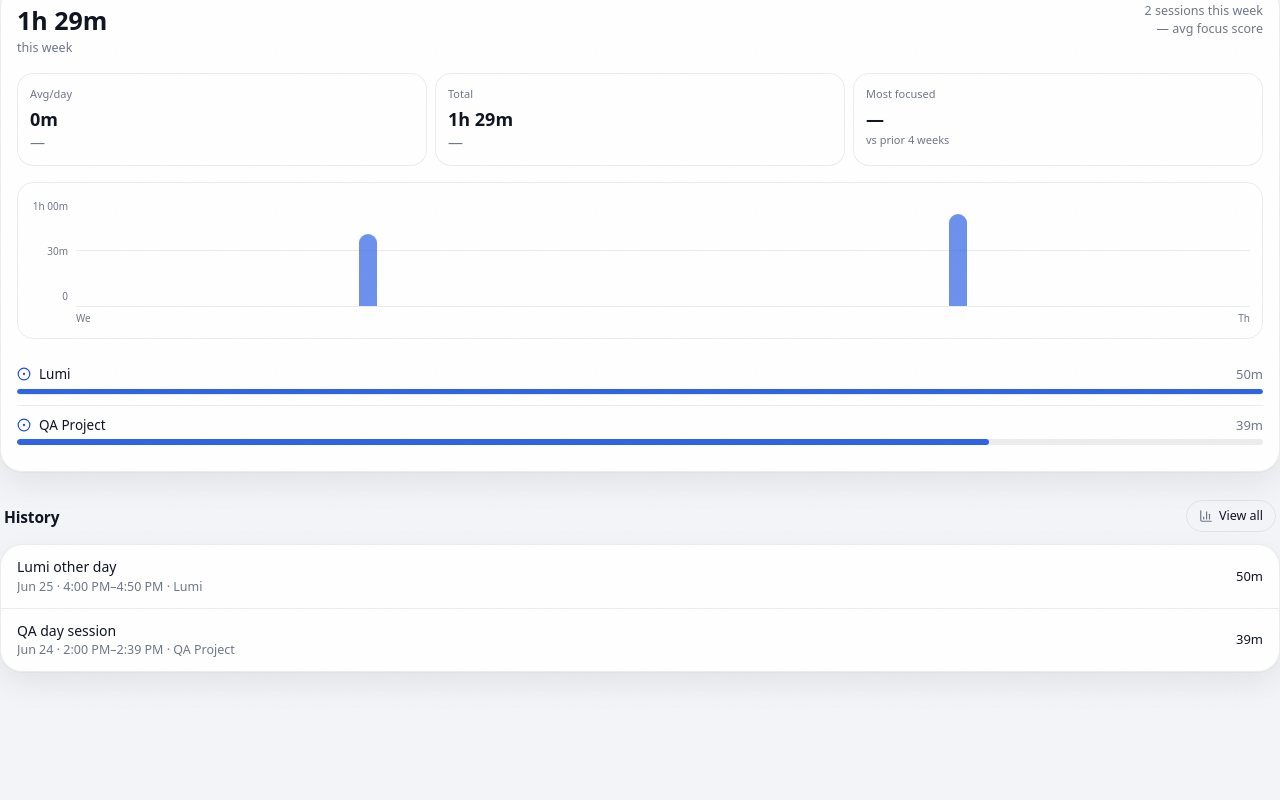
Scenario: FocusPage › filters full history projects and rows by selected day and clears the day on repeat click
The width and height of the screenshot is (1280, 800).
(page scrolled)
What coordinates should you click on to do the following:
click the button "View all"
I would click on:
 (1231, 516)
Its box is [1186,500,1276,532].
(page scrolled)
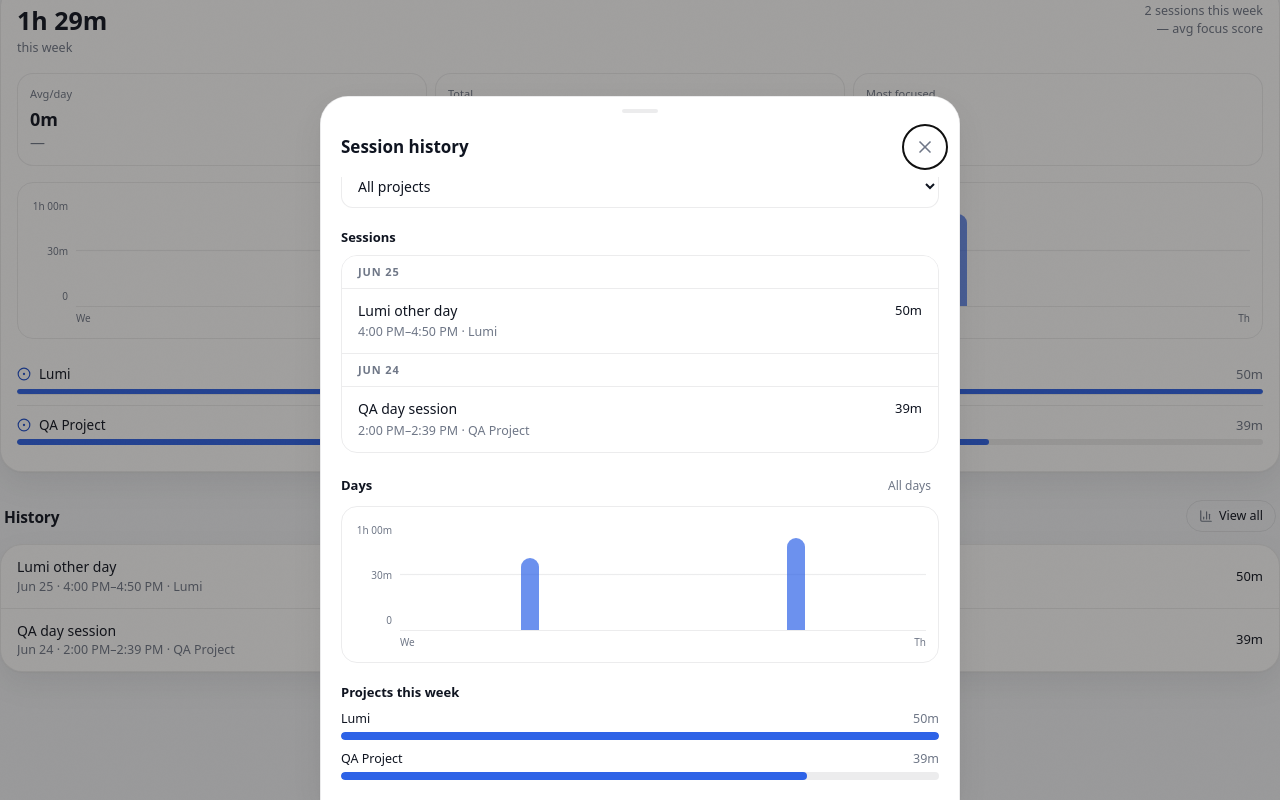
Check: the dialog "Session history" is shown, box [320,96,960,799]
What coordinates should you click on to do the following:
click the button named "2026-06-24: 39m"
I would click on:
 (530, 575)
Its box is [400,519,660,630].
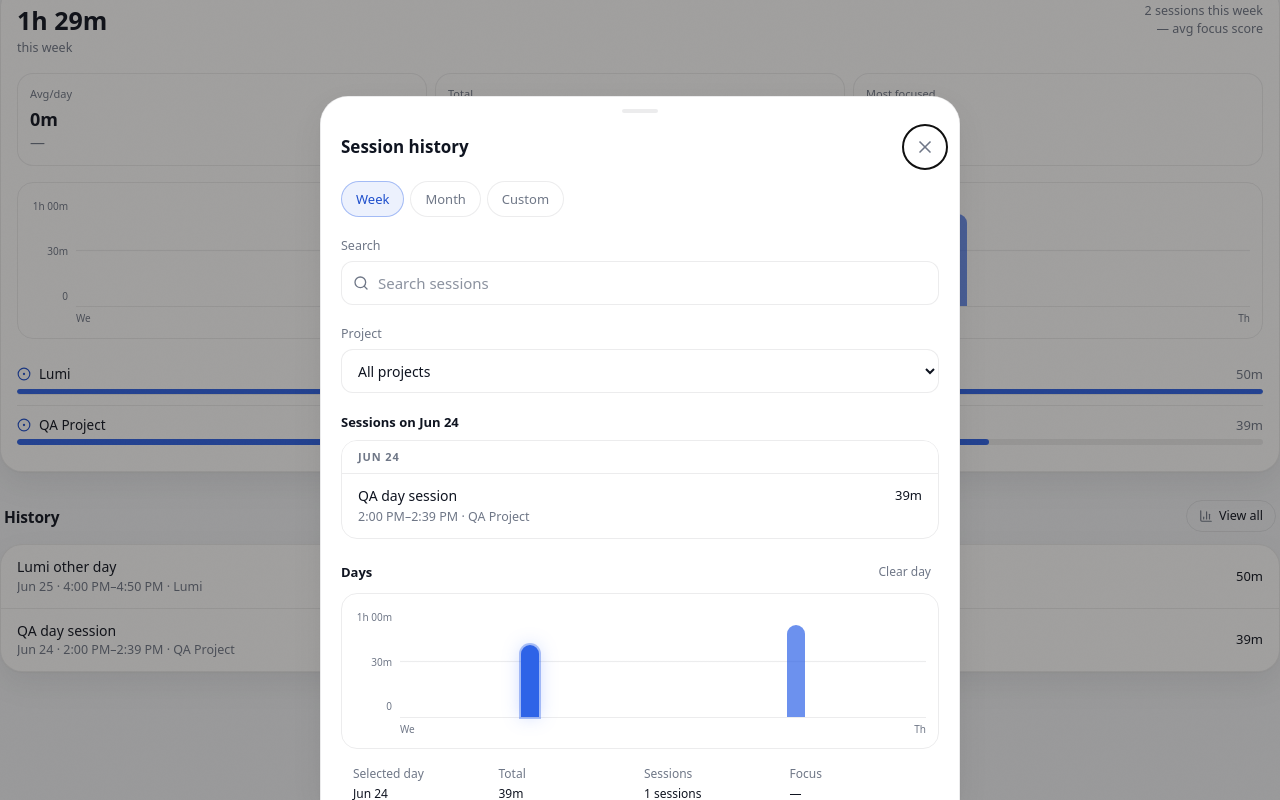
Check: the text "QA day session" is shown, box [358,486,457,505]
Check: the heading "Sessions on Jun 24" is shown, box [341,413,459,431]
What coordinates should you click on to do the following:
click the button named "2026-06-24: 39m"
I would click on:
 (530, 661)
Its box is [400,606,660,717].
(page scrolled)
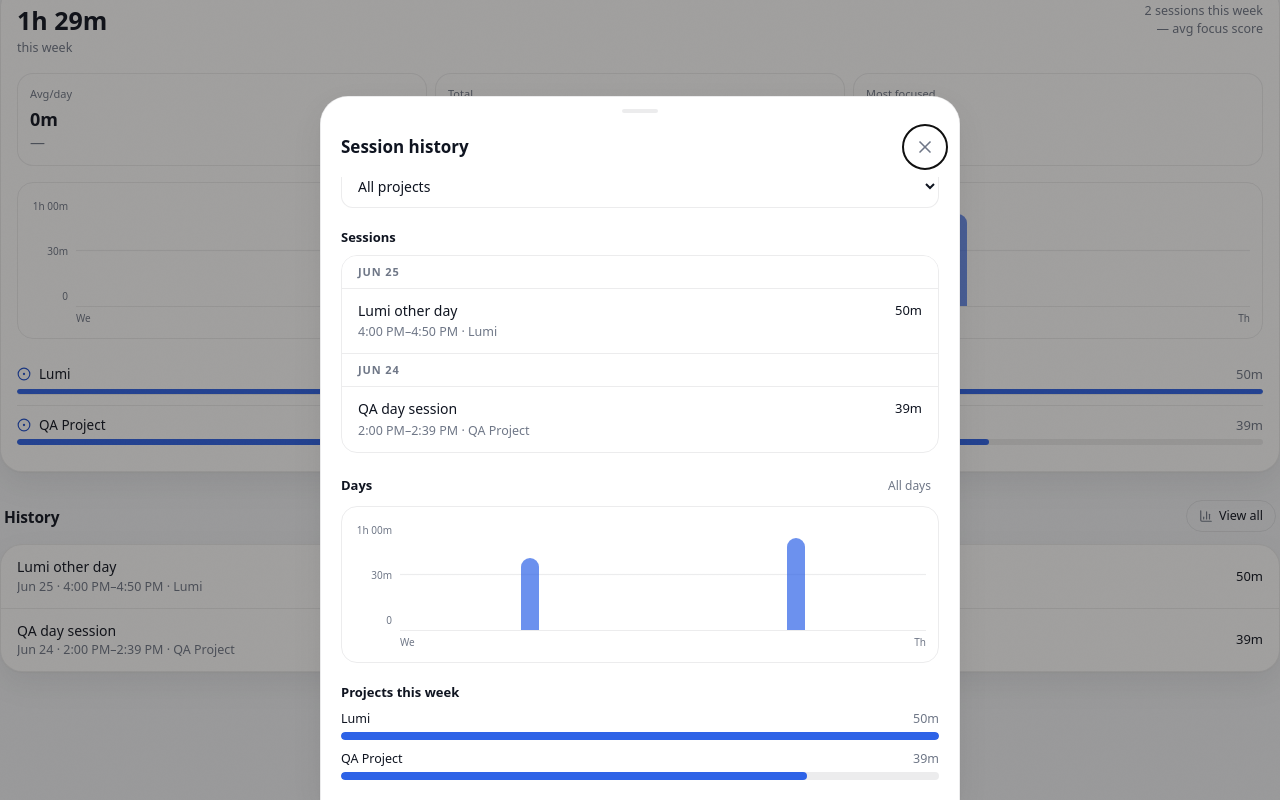
Check: the text "QA day session" is shown, box [358,399,457,418]
Check: the heading "Projects this week" is shown, box [341,683,459,701]
Check: the text "Lumi other day" is shown, box [358,301,457,320]
